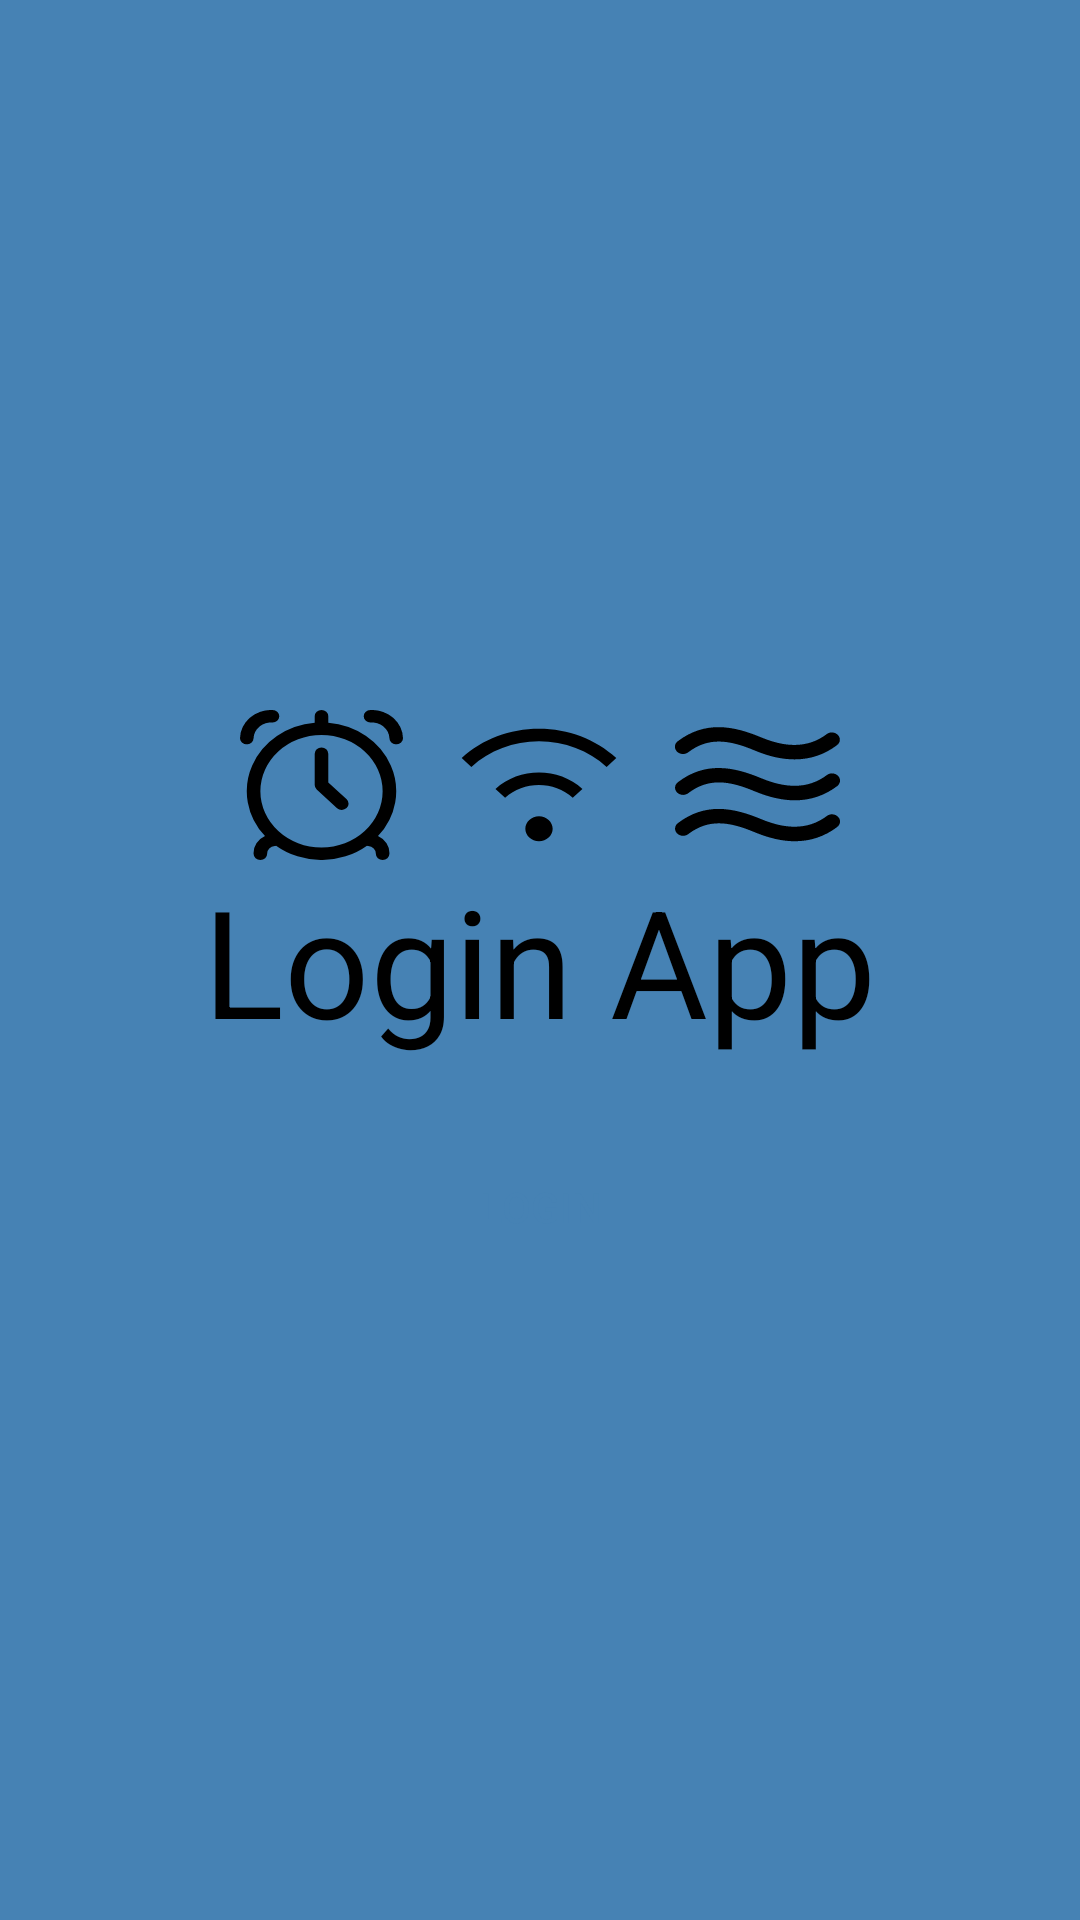

Icon click points for this 1080w x 1920h phone screenshot, format (x=x, y=y):
alarm: (x=321, y=785)
wifi: (x=539, y=785)
